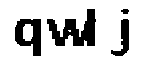j: (106, 6, 135, 59)
l: (86, 6, 101, 53)
q: (11, 17, 43, 60)
w: (43, 15, 89, 49)
